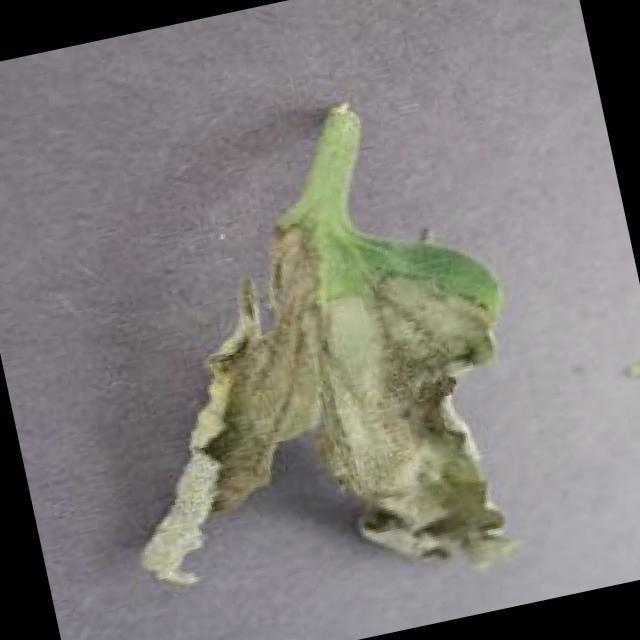Tomato late blight leaf: (69, 166, 560, 640)
